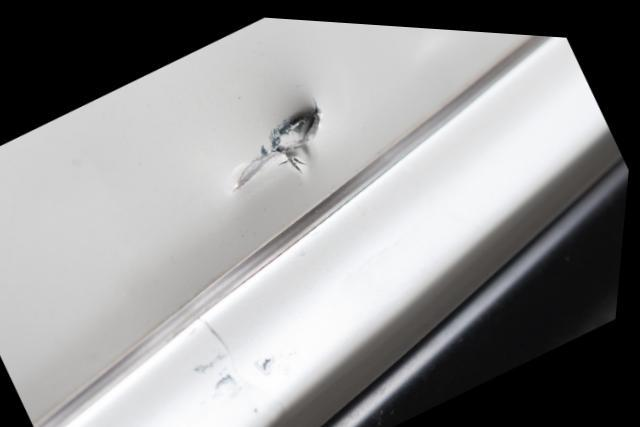dent: (228, 91, 330, 187)
